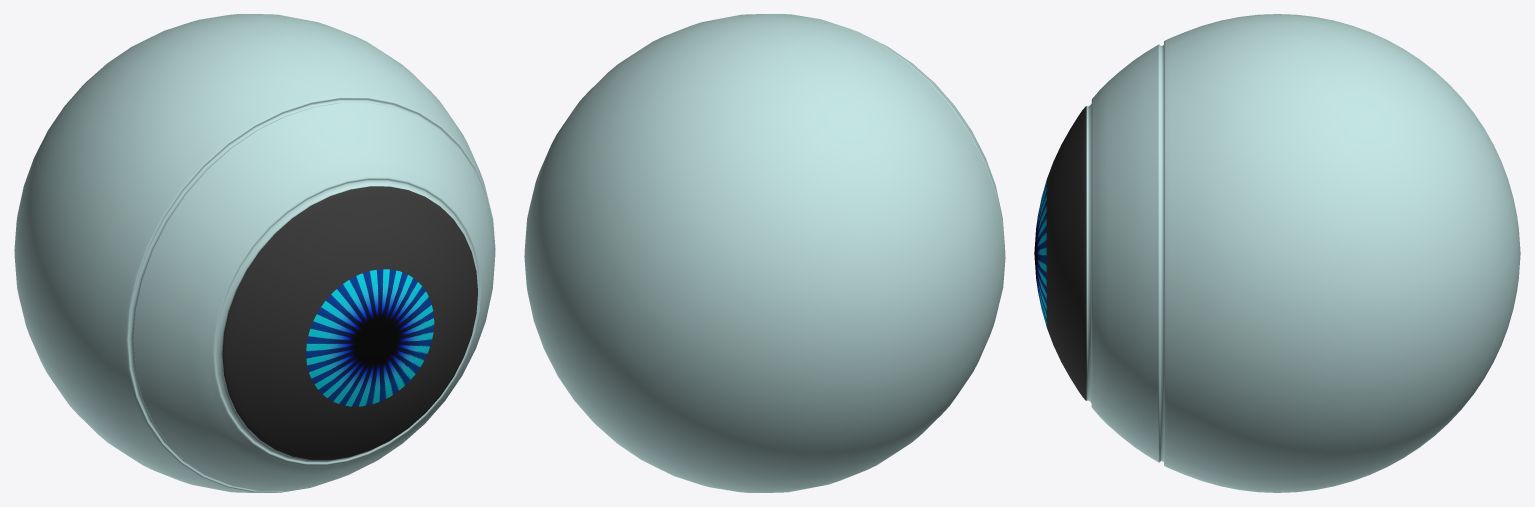
The model's file is eye1.fbx.
The picture shows the model from 3 angles, left to right: view 1: azimuth 30°, elevation 25°; view 2: azimuth 150°, elevation 25°; view 3: azimuth 270°, elevation 25°; orthographic projection.
Parts seen in each view (by area): view 1: pSphere3; view 2: pSphere3; view 3: pSphere3.
Boxes of the visible parts, bbox=[...] form: pSphere3: bbox=[14, 14, 495, 492]; pSphere3: bbox=[524, 14, 1005, 492]; pSphere3: bbox=[1034, 14, 1520, 492].
Size of the model in its own units: 11.07 by 11.07 by 11.23.
Materials: 3 (1 with a texture image).
